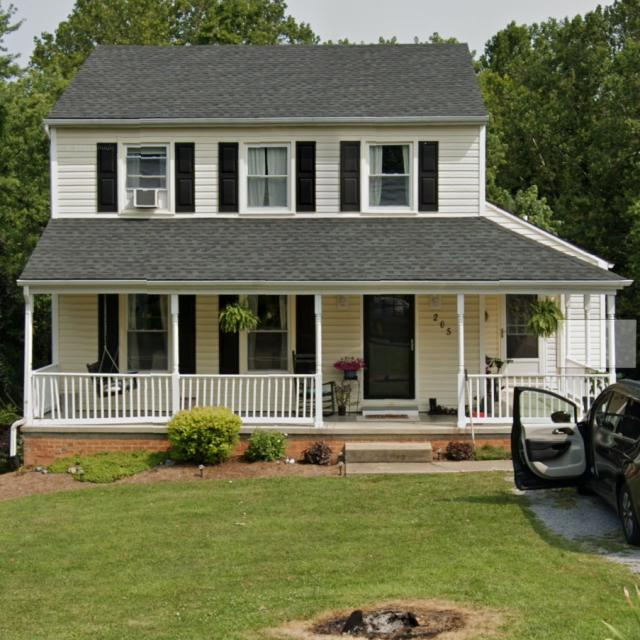House: (9, 44, 633, 480)
